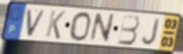B: (117, 14, 141, 46)
J: (141, 17, 162, 46)
K: (44, 9, 67, 41)
N: (88, 12, 117, 44)
O: (69, 11, 93, 43)
V: (26, 8, 48, 38)
